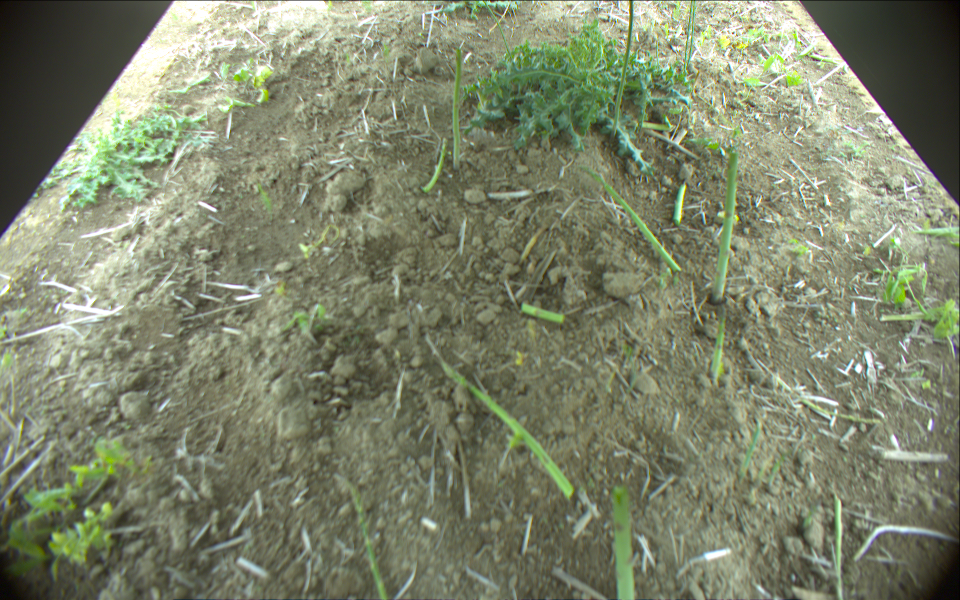aspa: (435, 353, 573, 497), (588, 168, 683, 273), (333, 476, 391, 600), (613, 1, 635, 139), (611, 485, 636, 600), (483, 1, 518, 69), (451, 45, 465, 171), (421, 135, 448, 194), (710, 308, 728, 385), (522, 304, 567, 324), (683, 1, 693, 74), (687, 1, 695, 66), (674, 183, 687, 223)
